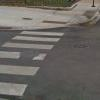Crosswalk: (8, 12, 51, 99)
